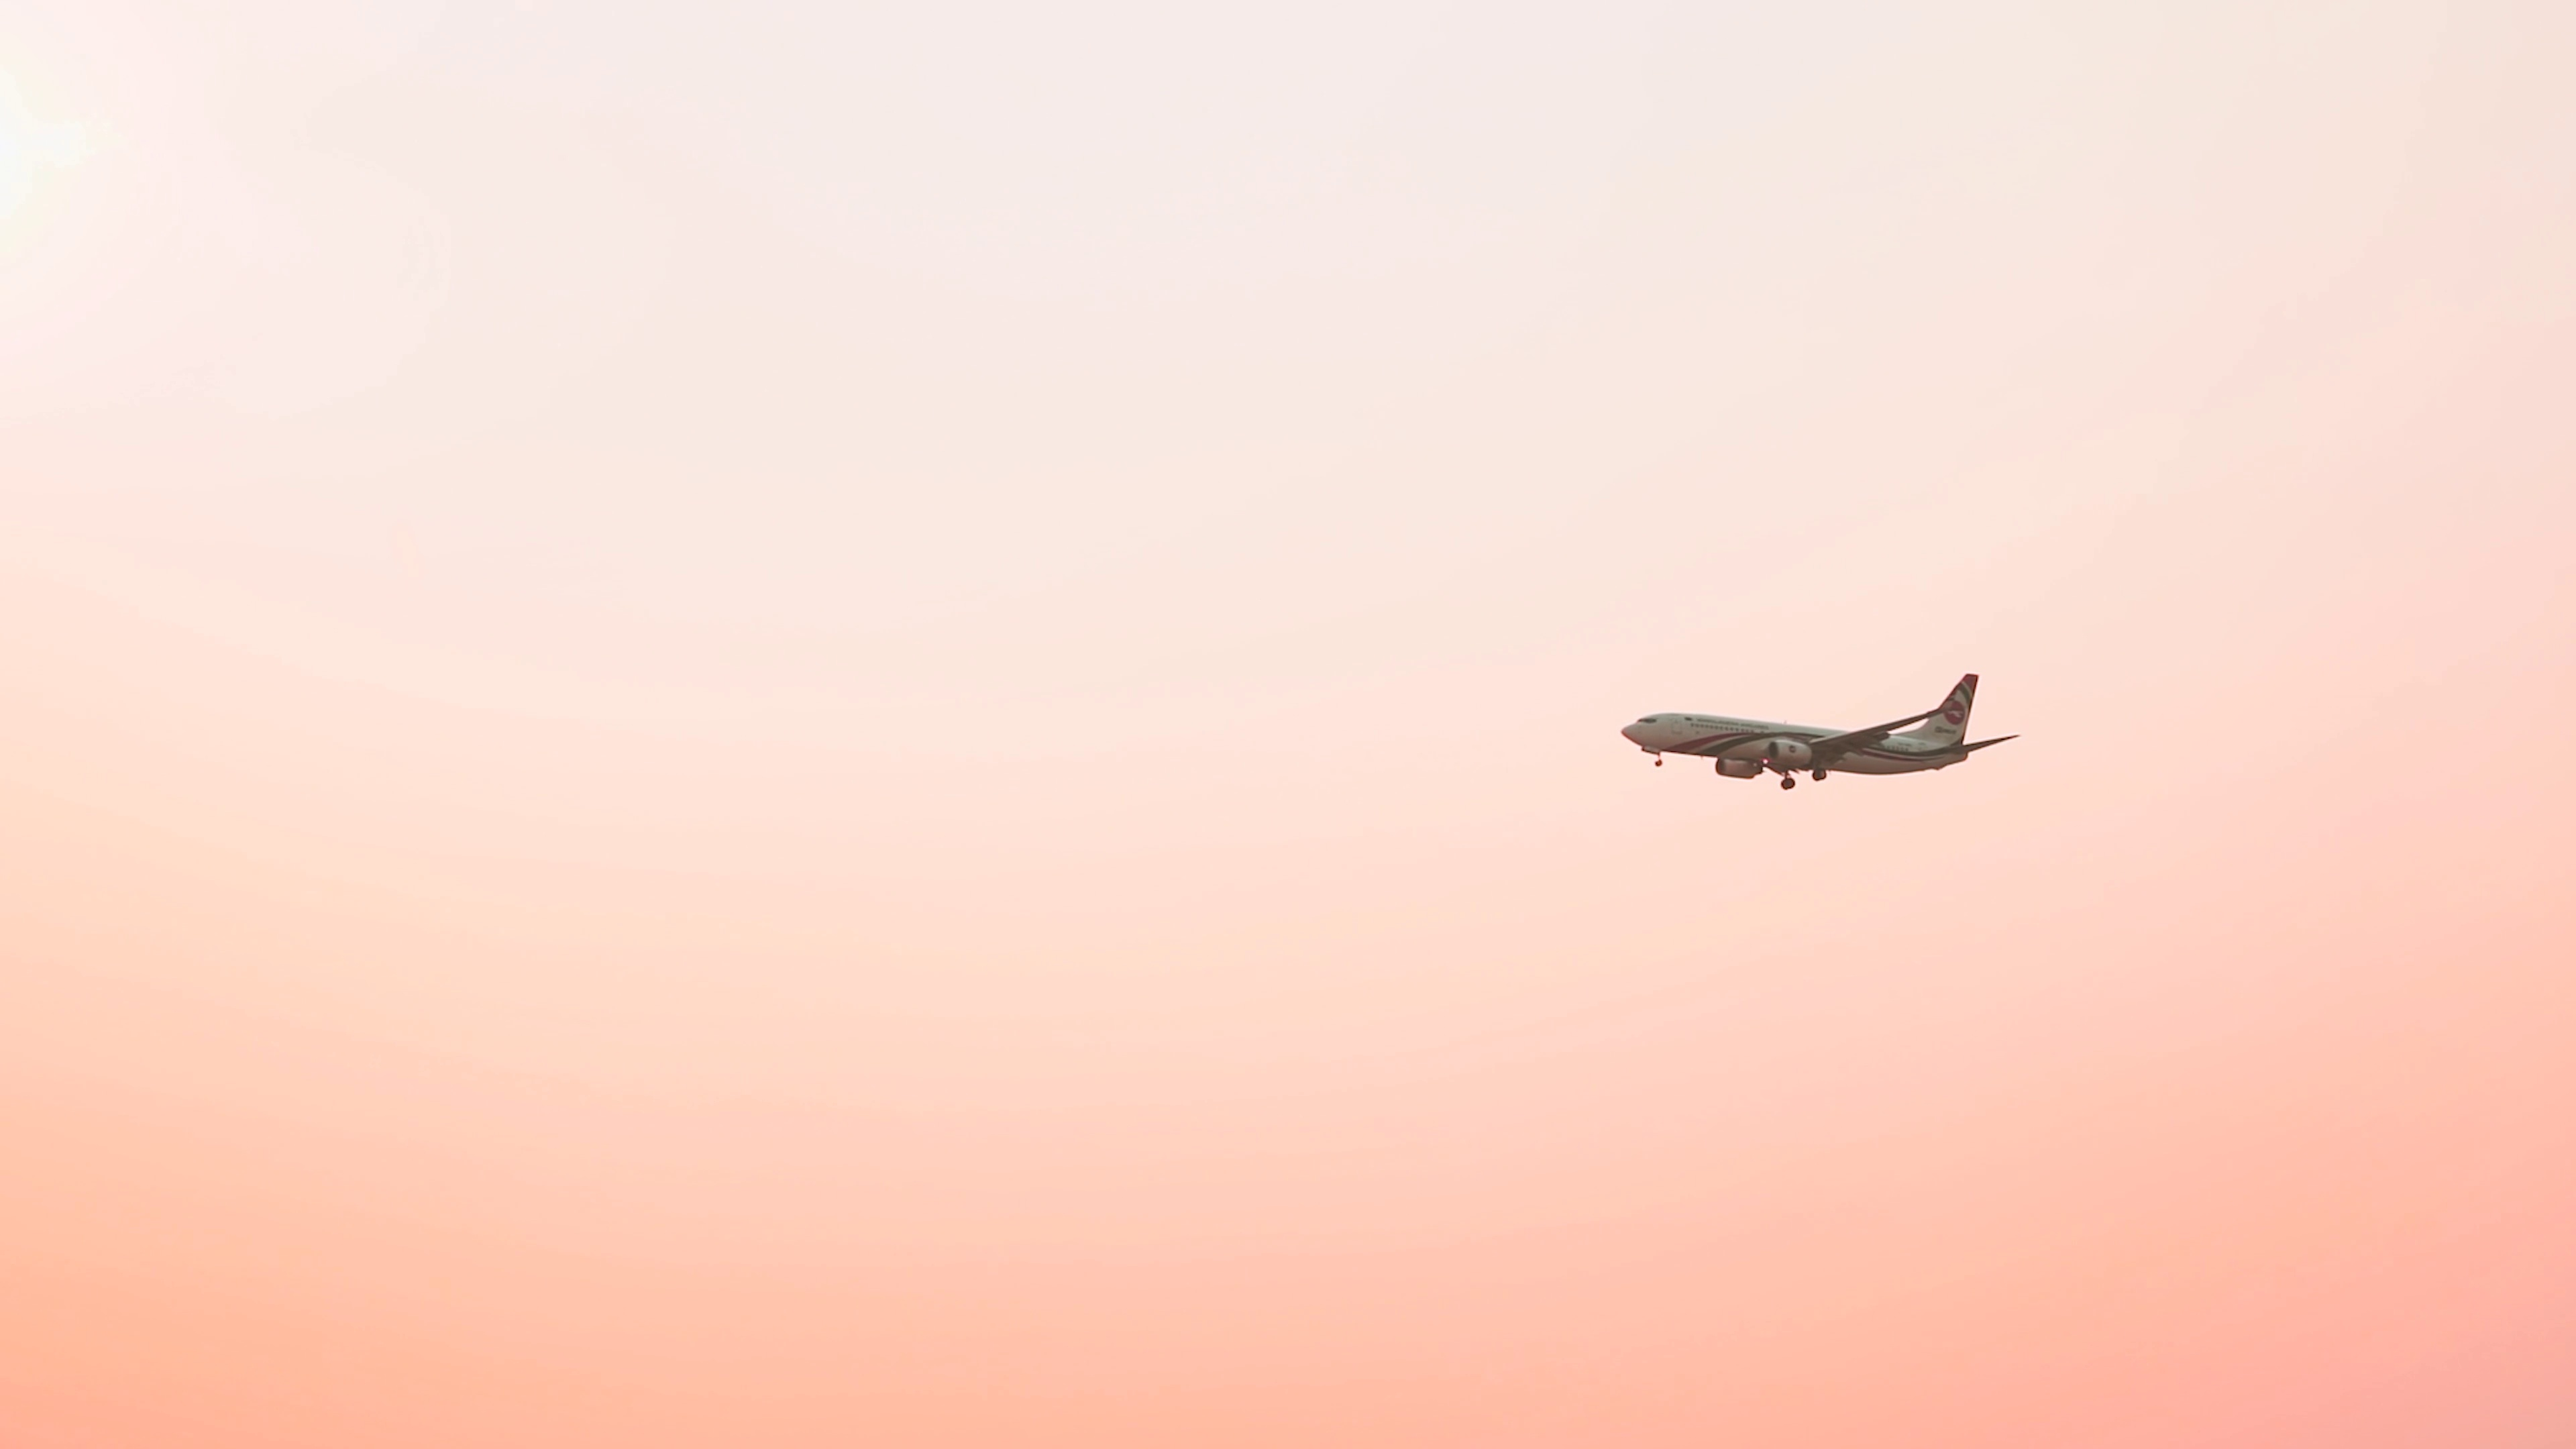plane: (1615, 671, 2017, 789)
